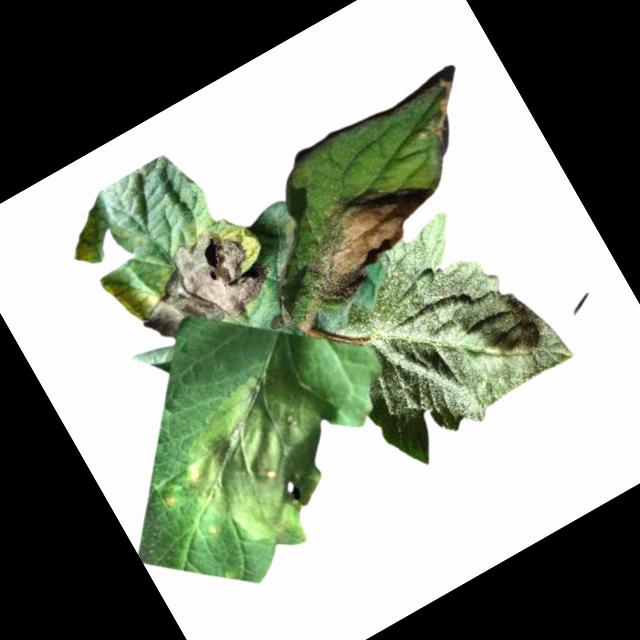Late_blight: (157, 352, 378, 577), (277, 156, 460, 314), (115, 209, 285, 361), (399, 73, 480, 159)
